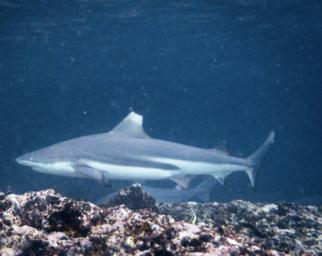Shark -Selachimorpha-: (14, 107, 273, 189)
